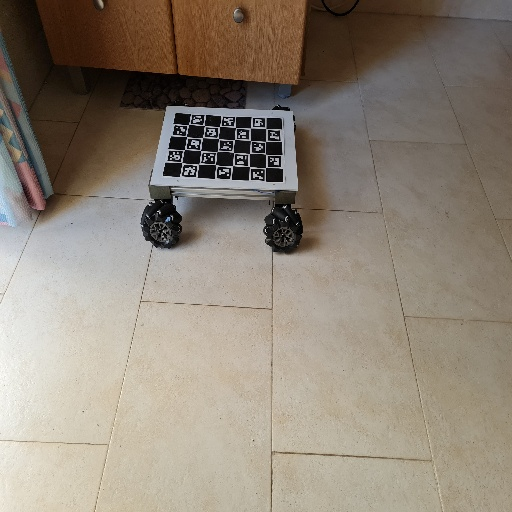Omniwheel: (140, 103, 304, 254)
